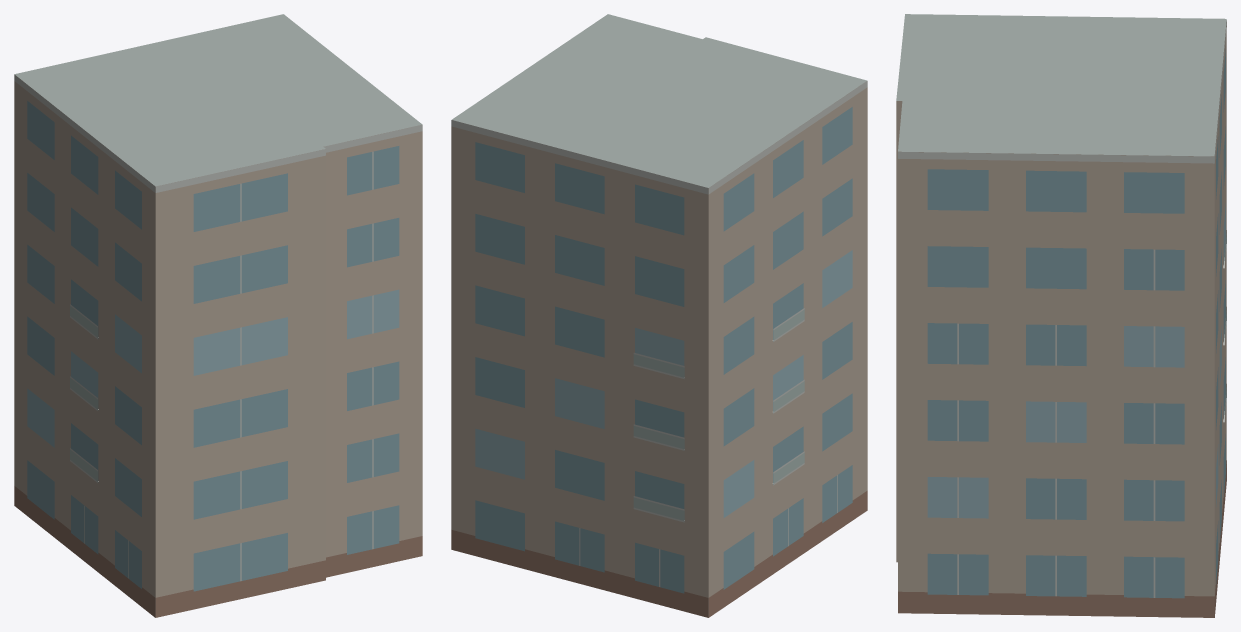
The model's file is survey-upis-32736650.glb.
3 views of the same model, side by side, from view 1: azimuth 30°, elevation 25°; view 2: azimuth 150°, elevation 25°; view 3: azimuth 270°, elevation 25° (orthographic). The views are drawn at different scales.
Parts seen in each view (by area): view 1: survey-upis-32736650.tmp; view 2: survey-upis-32736650.tmp; view 3: survey-upis-32736650.tmp.
Part boxes in pixels (bbox=[...]): survey-upis-32736650.tmp: bbox=[14, 14, 422, 617]; survey-upis-32736650.tmp: bbox=[451, 14, 867, 617]; survey-upis-32736650.tmp: bbox=[896, 14, 1226, 617].
Size of the model in its own units: 10.53 by 15.9 by 10.33.
